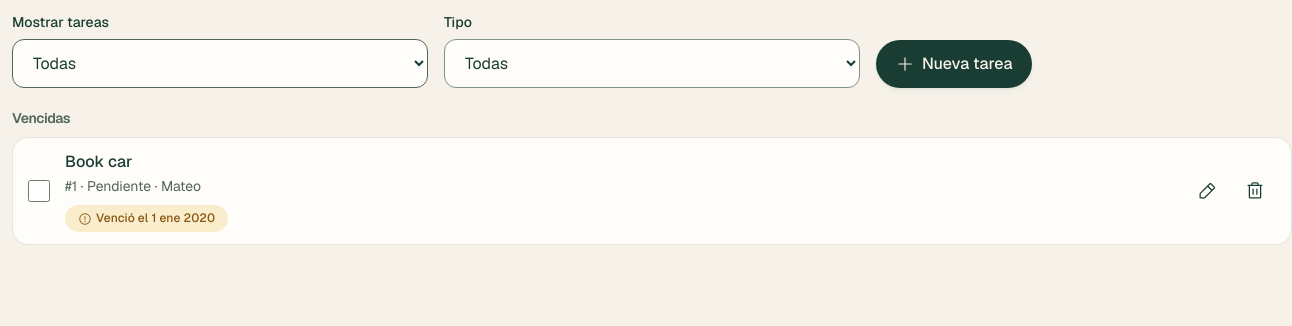
Test case: groups overdue tasks and rolls back a failed optimistic toggle
The width and height of the screenshot is (1292, 326).
Expected: the heading "Vencidas" is shown, left=12, top=109, right=70, bottom=127
Step 1. Click the checkbox named "Book car" → (39, 191), box left=28, top=180, right=50, bottom=202
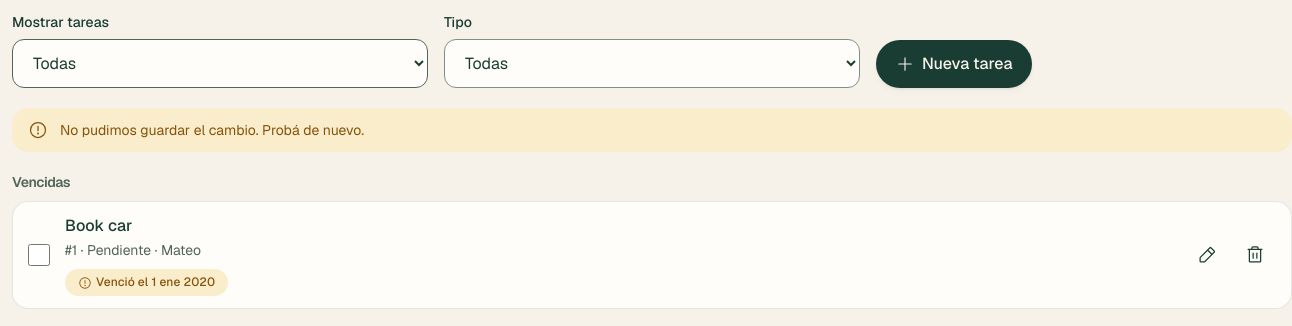
Expected: the checkbox named "Book car" is not checked, left=28, top=244, right=50, bottom=266
Result: the message "No pudimos guardar el cambio. Probá de nuevo." is shown at left=12, top=108, right=1291, bottom=152
